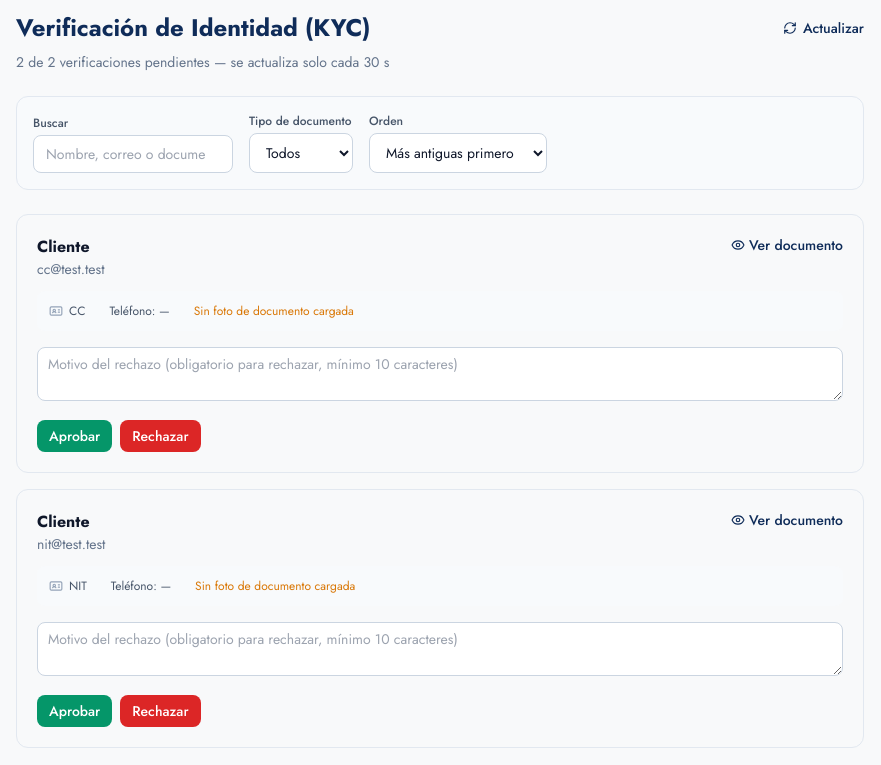
AgentKycPanel › filtra por tipo de documento
Check: the text "cc@test.test" is shown, box [37, 259, 104, 279]
Select "NIT" in the dropdown labelled "Tipo de documento". click: (301, 153)
box: [249, 133, 353, 173]
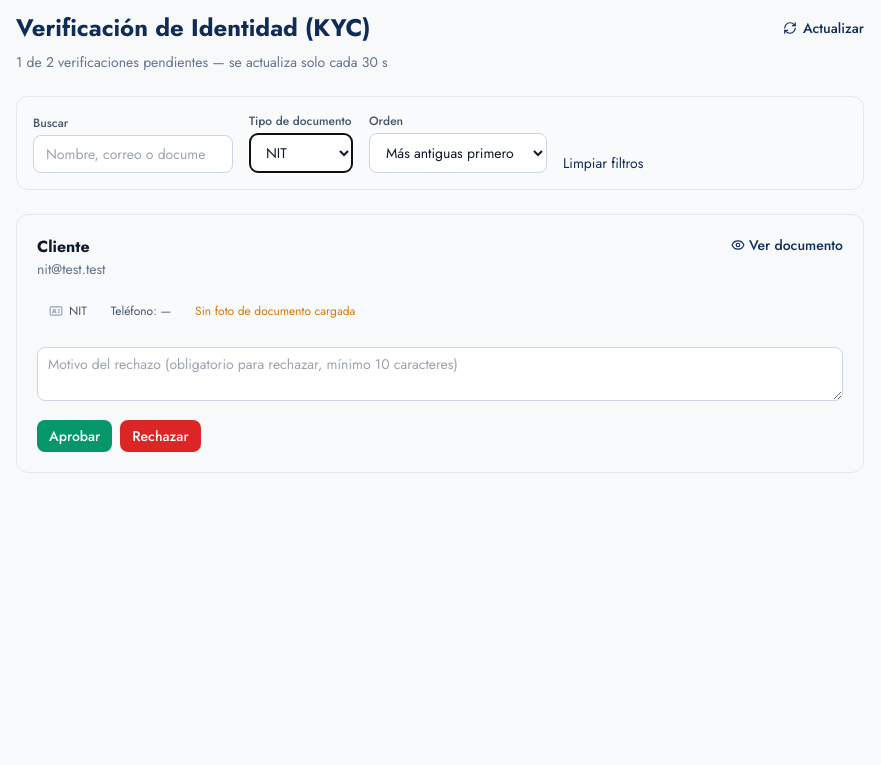
Check: the text "nit@test.test" is shown, box [37, 259, 106, 279]
Check: the text "cc@test.test" is gone
